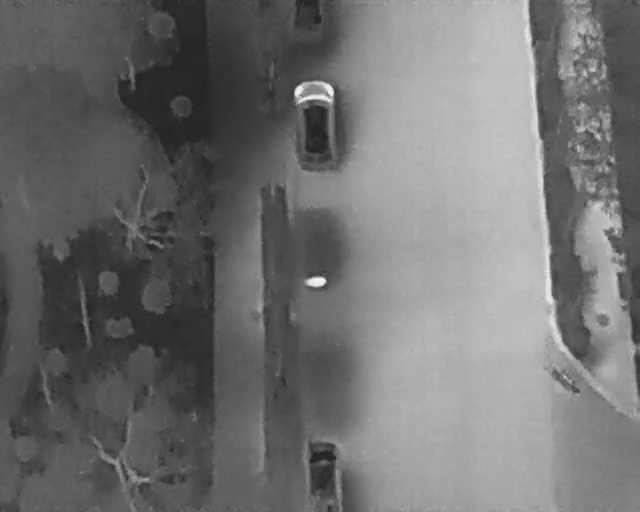Bicycle: (546, 364, 586, 398)
Car: (291, 79, 339, 173), (303, 438, 346, 510), (289, 0, 324, 37)
